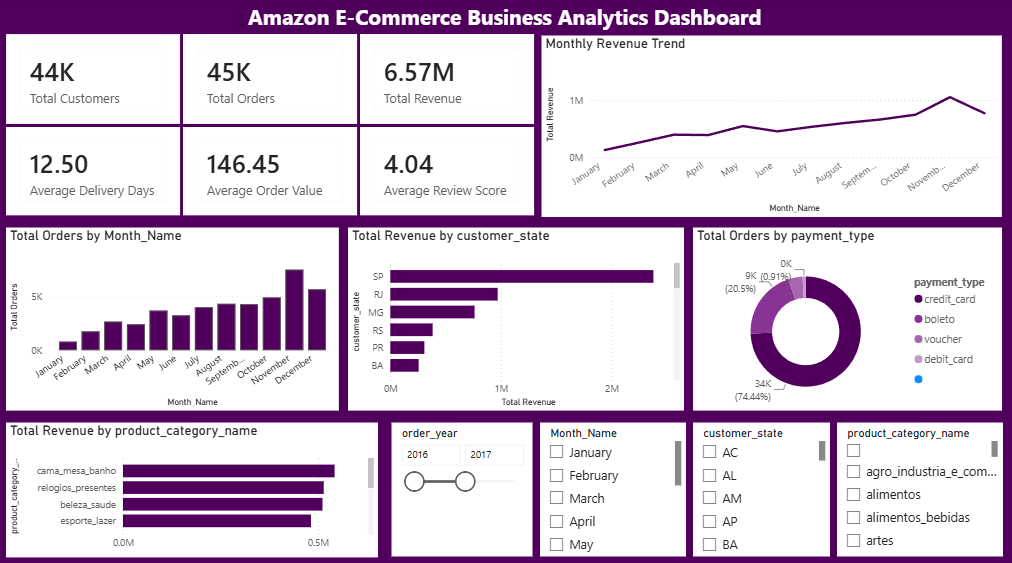

What the dashboard file says about the page in this screenshot:
{"tool":"powerbi","page":{"name":"Executive Dashboard","canvas":[1280,720],"ordinal":0},"visuals":[{"type":"cardVisual","fields":{"Data":["PowerBI_Dataset.Total Revenue"]},"box":[457.3,45.4,219.2,113.4],"z":0},{"type":"cardVisual","fields":{"Data":["PowerBI_Dataset.Total Customers","PowerBI_Dataset.Total Customers"]},"box":[11.3,45.4,219.2,113.4],"z":1000},{"type":"cardVisual","fields":{"Data":["PowerBI_Dataset.Total Orders","PowerBI_Dataset.Total Orders"]},"box":[234.3,45.4,219.2,113.4],"z":2000},{"type":"cardVisual","fields":{"Data":["PowerBI_Dataset.Average Order Value"]},"box":[234.3,162.5,219.2,111.5],"z":3000},{"type":"cardVisual","fields":{"Data":["PowerBI_Dataset.Average Delivery Days"]},"box":[11.3,162.5,219.2,111.5],"z":4000},{"type":"cardVisual","fields":{"Data":["PowerBI_Dataset.Average Review Score"]},"box":[457.3,162.5,219.2,111.5],"z":5000},{"type":"lineChart","title":"Monthly Revenue Trend","fields":{"Y":["PowerBI_Dataset.Total Revenue"],"Category":["PowerBI_Dataset.Month_Name"]},"box":[686,47.2,580.2,228.7],"z":6000},{"type":"clusteredColumnChart","fields":{"Category":["PowerBI_Dataset.Month_Name"],"Y":["PowerBI_Dataset.Total Orders"]},"box":[11.3,289.1,419.5,230.6],"z":7000},{"type":"clusteredBarChart","fields":{"Y":["PowerBI_Dataset.Total Revenue"],"Category":["PowerBI_Dataset.customer_state"]},"box":[442.2,289.1,423.3,230.6],"z":8000},{"type":"donutChart","fields":{"Category":["PowerBI_Dataset.payment_type"],"Y":["PowerBI_Dataset.Total Orders"]},"box":[876.9,289.1,389.3,230.6],"z":9000},{"type":"clusteredBarChart","fields":{"Category":["PowerBI_Dataset.product_category_name"],"Y":["PowerBI_Dataset.Total Revenue"]},"box":[11.3,534.8,468.7,170.1],"z":10000},{"type":"slicer","fields":{"Values":["PowerBI_Dataset.order_year"]},"box":[497,534.8,177.6,168.2],"z":11000},{"type":"slicer","fields":{"Values":["PowerBI_Dataset.Month_Name"]},"box":[684.1,534.8,183.3,168.2],"z":12000},{"type":"slicer","fields":{"Values":["PowerBI_Dataset.customer_state"]},"box":[876.9,534.8,172,168.2],"z":13000},{"type":"slicer","fields":{"Values":["PowerBI_Dataset.product_category_name"]},"box":[1058.3,534.8,207.9,168.2],"z":14000},{"type":"textbox","box":[0,0,1279.4,45.4],"z":15000}]}

Visuals, with their boxes in screenshot pixels (x1, y1, x2, y2), scaled from the page's 1280x720 canvas onto the 1012x563 screenshot:
cardVisual - PowerBI_Dataset.Total Revenue: 362/36/535/124
cardVisual - PowerBI_Dataset.Total Customers x PowerBI_Dataset.Total Customers: 9/36/182/124
cardVisual - PowerBI_Dataset.Total Orders x PowerBI_Dataset.Total Orders: 185/36/359/124
cardVisual - PowerBI_Dataset.Average Order Value: 185/127/359/214
cardVisual - PowerBI_Dataset.Average Delivery Days: 9/127/182/214
cardVisual - PowerBI_Dataset.Average Review Score: 362/127/535/214
"Monthly Revenue Trend" lineChart: 542/37/1001/216
clusteredColumnChart - PowerBI_Dataset.Month_Name x PowerBI_Dataset.Total Orders: 9/226/341/406
clusteredBarChart - PowerBI_Dataset.Total Revenue x PowerBI_Dataset.customer_state: 350/226/684/406
donutChart - PowerBI_Dataset.payment_type x PowerBI_Dataset.Total Orders: 693/226/1001/406
clusteredBarChart - PowerBI_Dataset.product_category_name x PowerBI_Dataset.Total Revenue: 9/418/380/551
slicer - PowerBI_Dataset.order_year: 393/418/533/550
slicer - PowerBI_Dataset.Month_Name: 541/418/686/550
slicer - PowerBI_Dataset.customer_state: 693/418/829/550
slicer - PowerBI_Dataset.product_category_name: 837/418/1001/550
textbox: 0/0/1011/36
